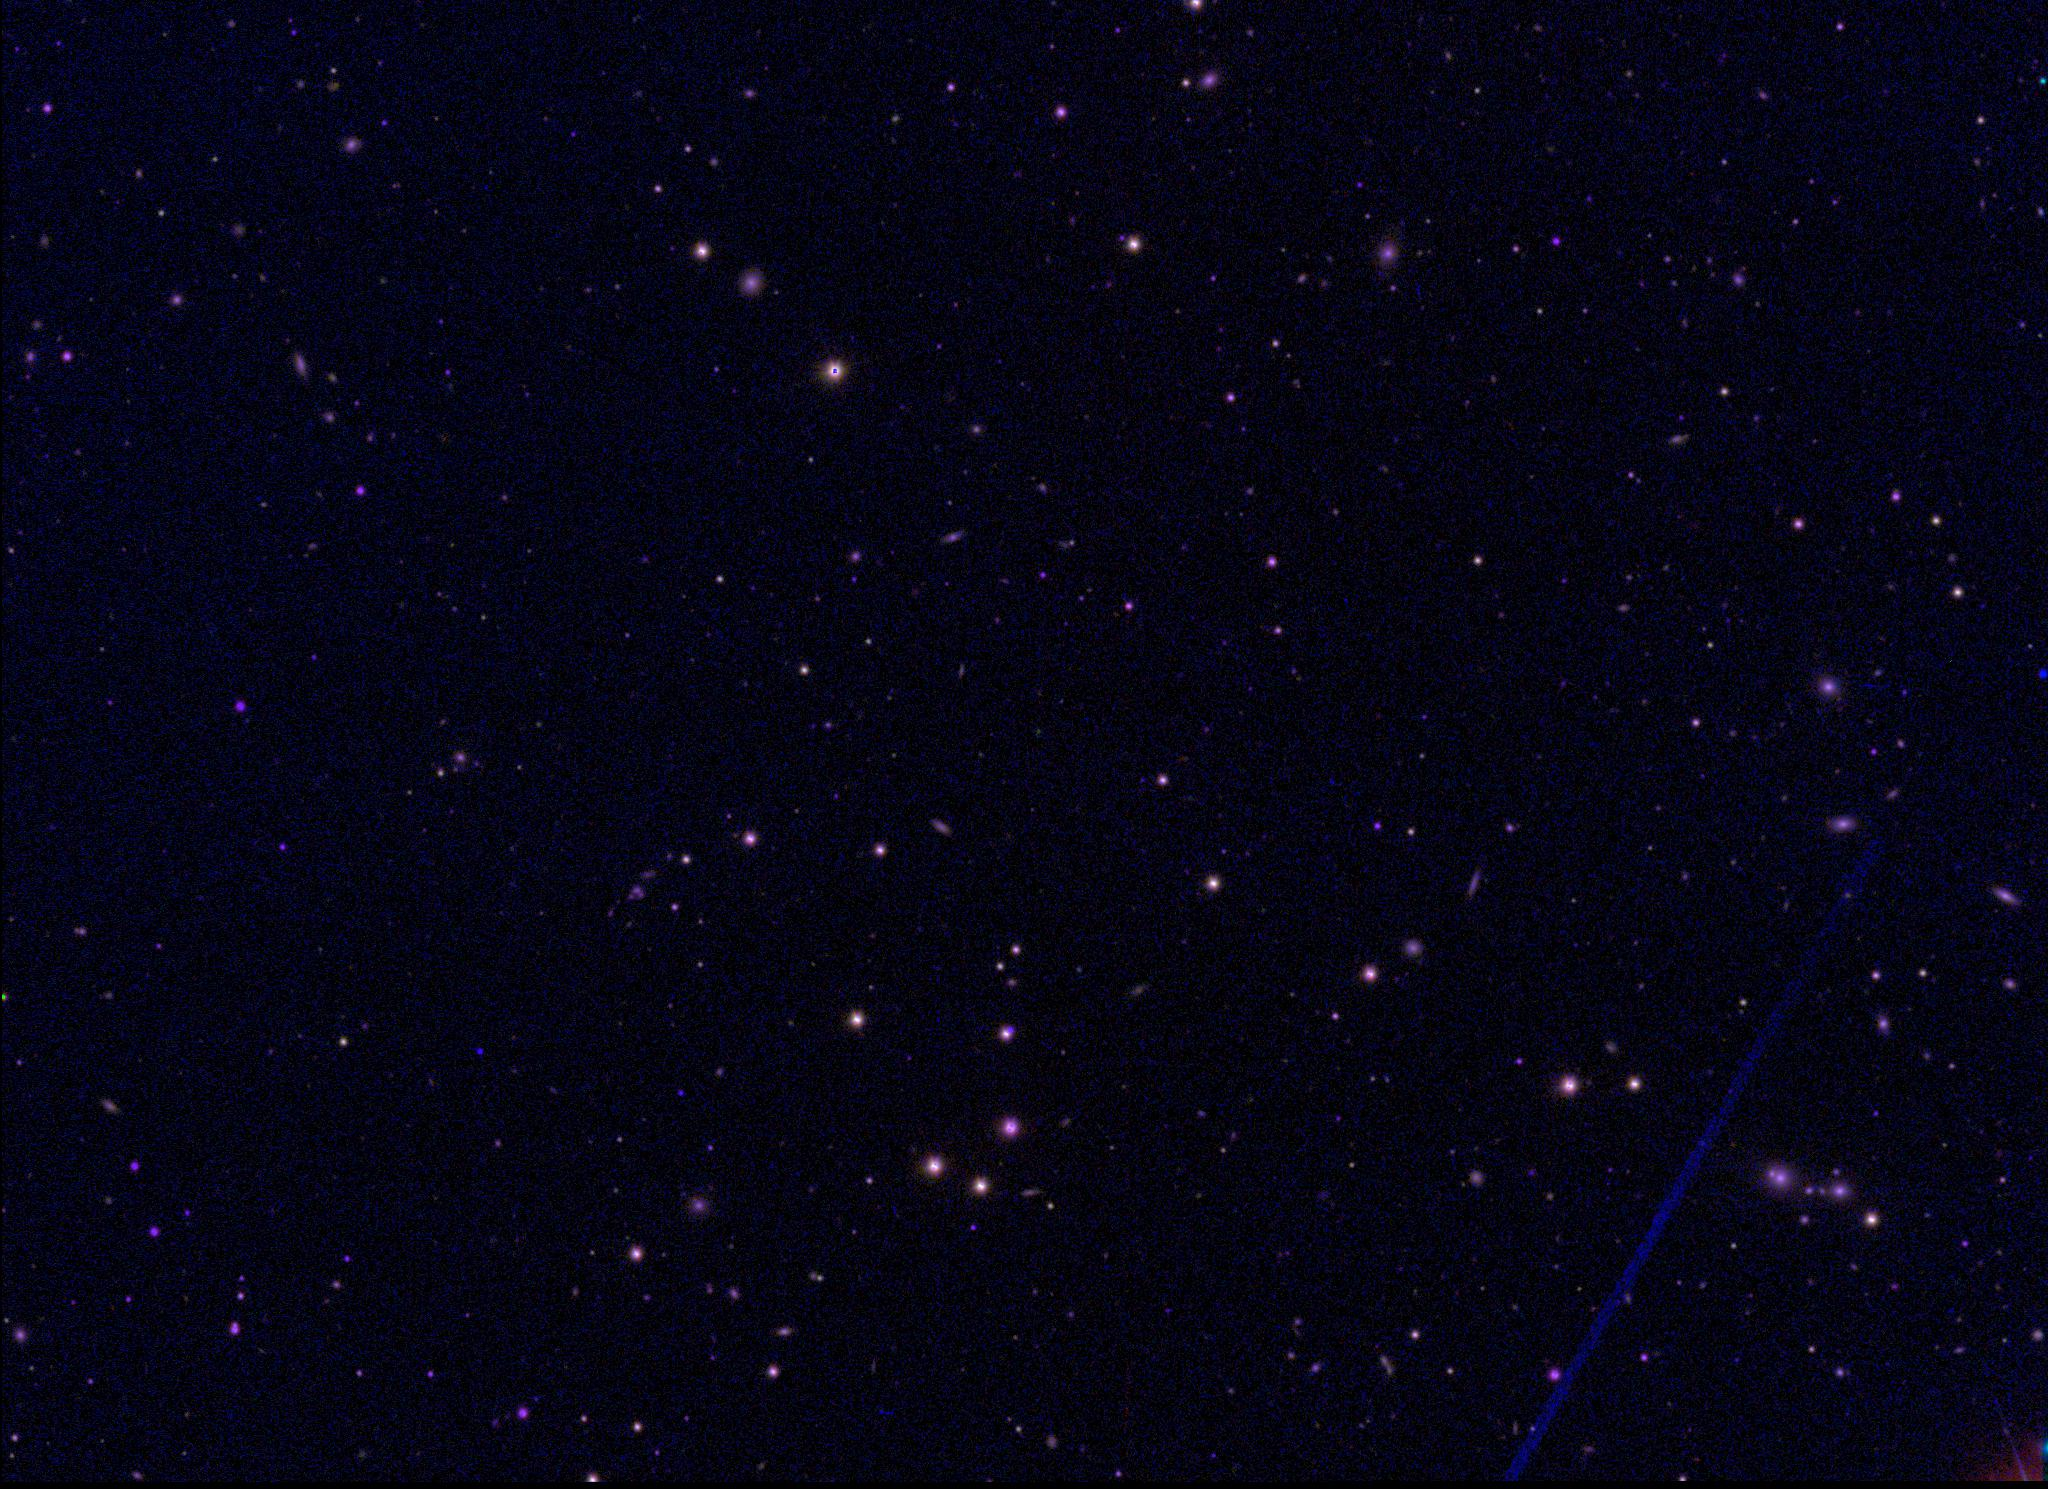L: (472, 1042, 487, 1056)
